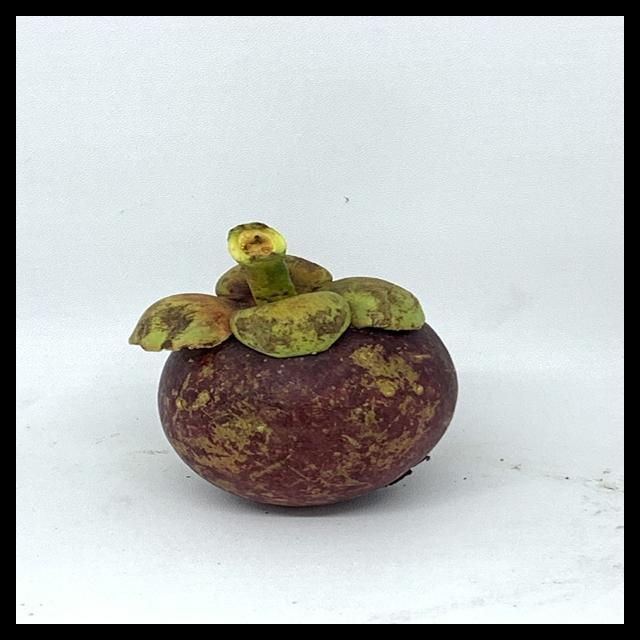mangosteen: (129, 200, 469, 515)
